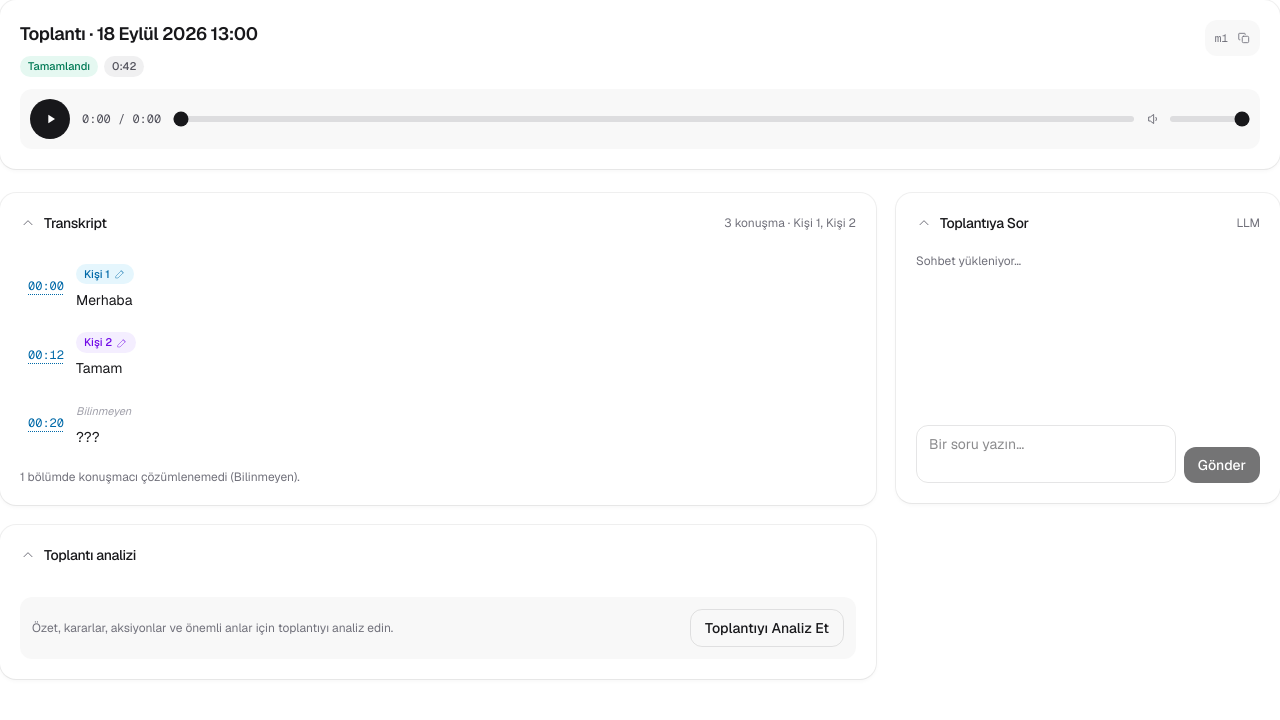
Test case: MeetingDetail › keeps the chat usable when the LLM provider is not configured (503)
Expected: the text "Merhaba" is shown, [76,290,132,308]
In the text box named "Toplantıyla ilgili soru": (1046, 454) [916,424,1176,482], type "Ne konuşuldu?"
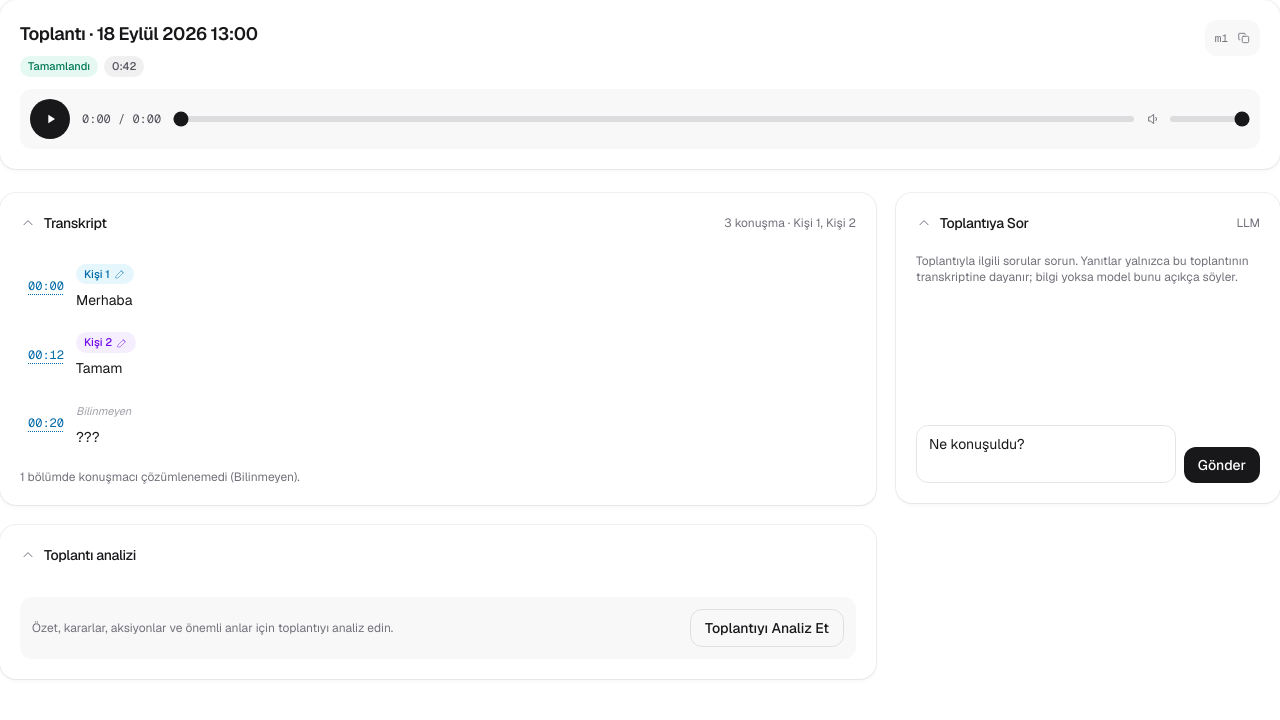
Click the button "Gönder": (1222, 464) [1184,446,1260,482]
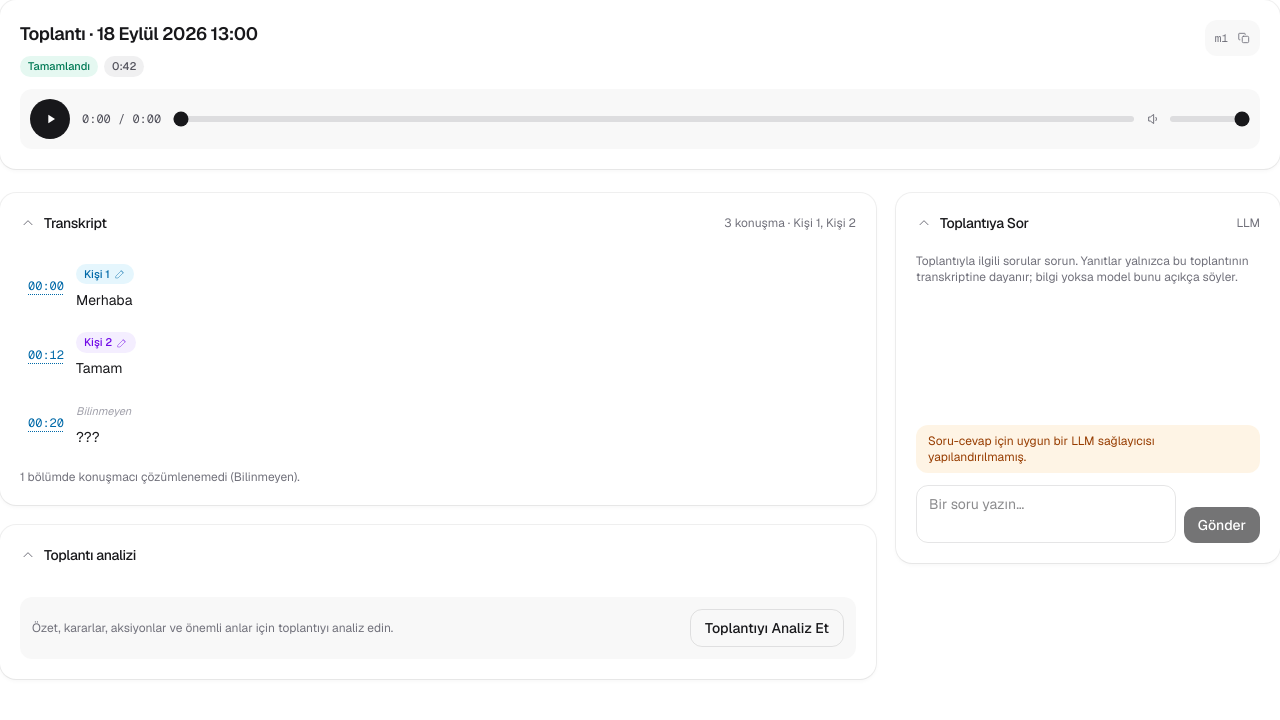
Result: the text "Soru-cevap için uygun bir LLM sağlayıcısı yapılandırılmamış." is shown at [916,424,1260,472]
